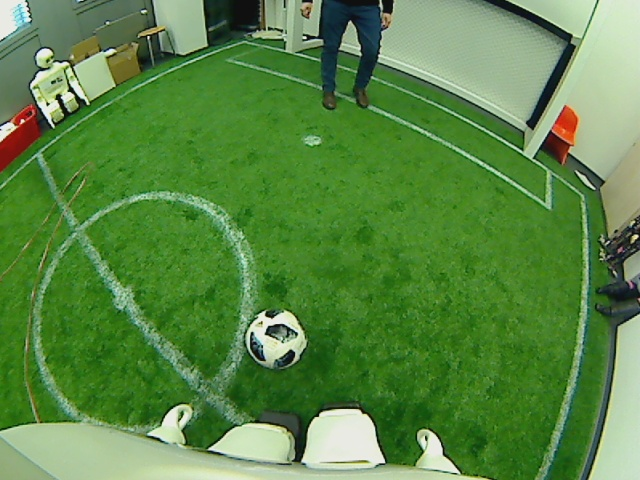ball: (244, 307, 308, 371)
